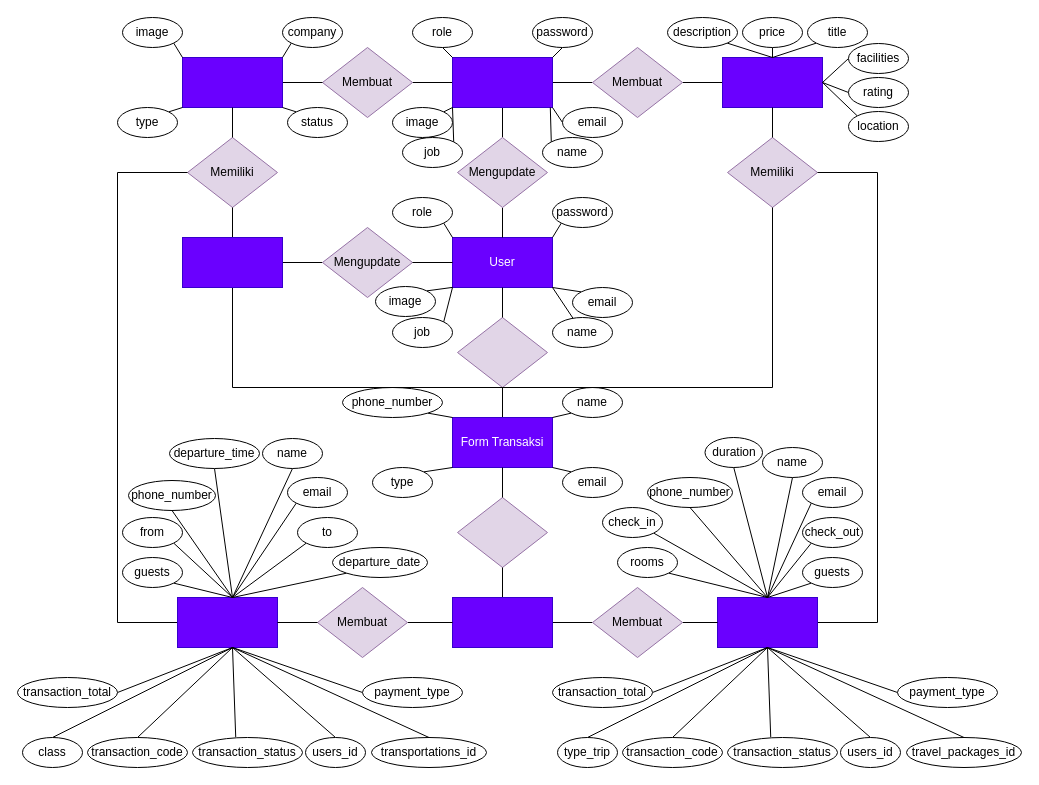
Image size: 1039x785. Some labels were removed from this diagram. Each missing label, with the box of its shape:
Admin: (452, 56, 552, 108)
Mengerjakan: (456, 496, 548, 568)
Mengisi: (456, 316, 548, 388)
Penginapan: (722, 56, 822, 108)
Riwayat Transaksi: (182, 236, 282, 288)
Transaksi: (452, 596, 552, 648)
Transaksi Penginapan: (716, 596, 818, 648)
Transaksi Transportasi: (176, 596, 278, 648)
Transportasi: (182, 56, 282, 108)
